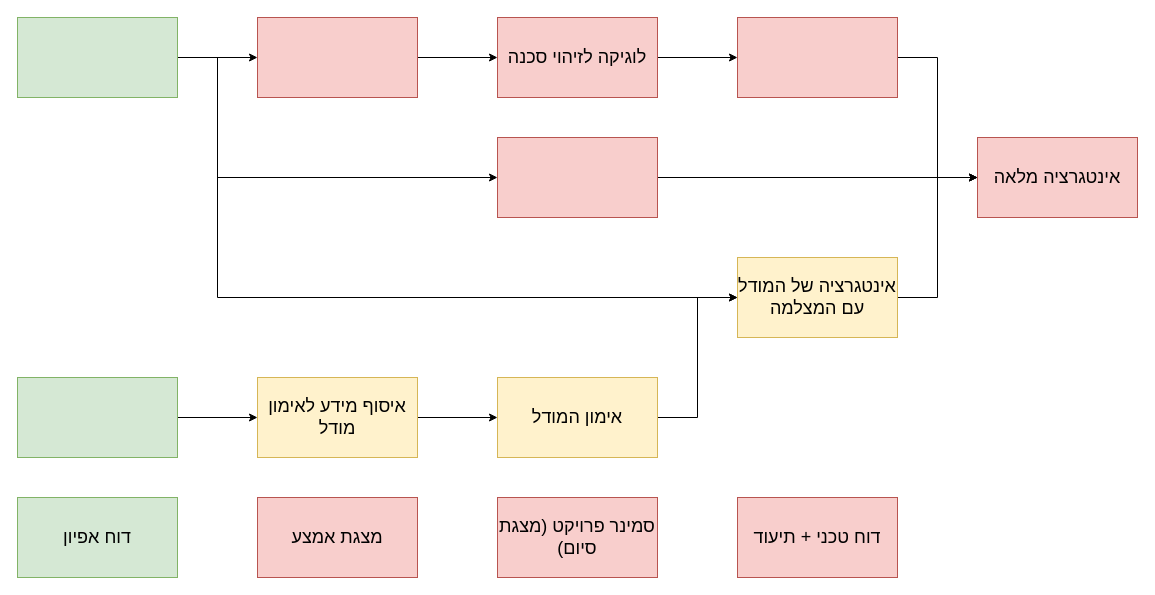
Some shapes in this 1155 by 595 pixel diagram are drawn without their labels. Each missing label, with the centre of its shape:
אינטגרציה של המצלמה עם כרטיס הבקרה: (x=577, y=177)
הגדרת API: (x=337, y=57)
הכרות עם רכיבי פרויקט: (x=97, y=57)
הכרת המודל: (x=97, y=417)
מנגנון התראה: (x=817, y=57)
